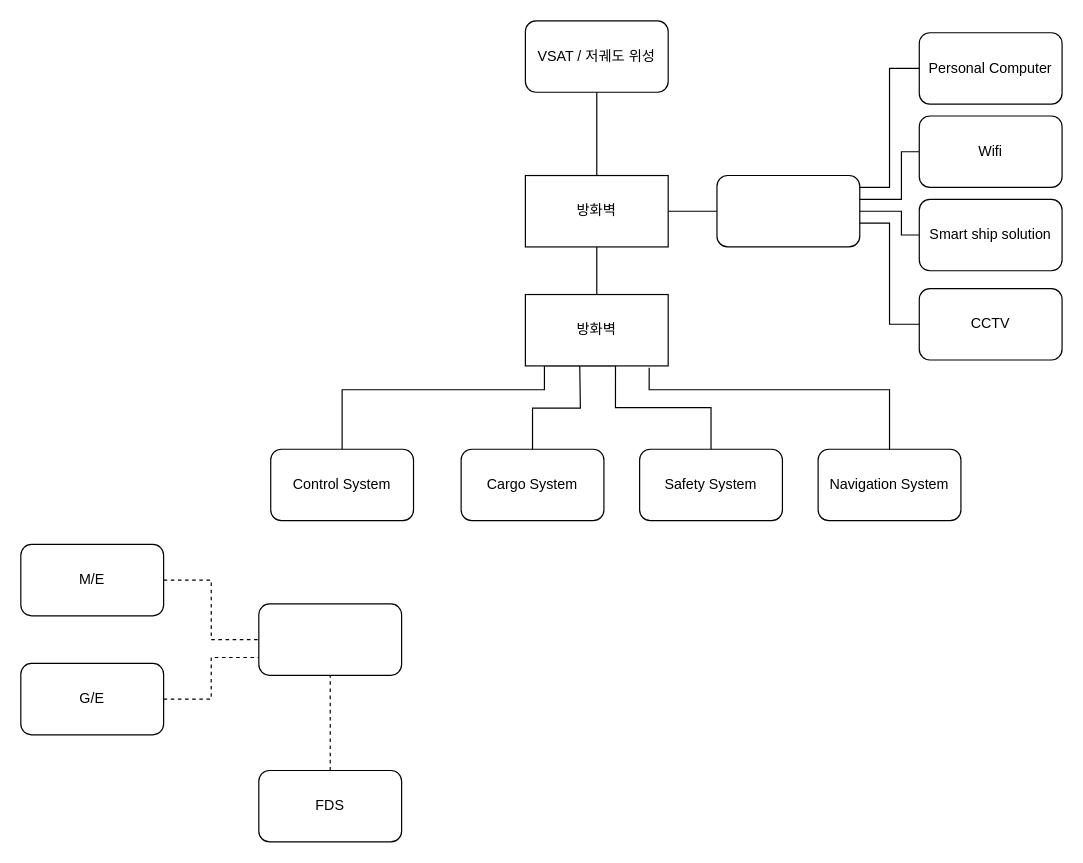
Some shapes in this 1083 by 863 pixel diagram are drawn without their labels. The shapes that lost their labels are listed below. From the top down, each one's centre as x and y in pixels, then its label:
At (788,210): "Shipboard Network".
At (330,639): "ICMS".
